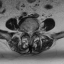CCS_normal: (29, 29, 31, 39)
LFS_stenosis: (33, 28, 35, 34)
LLS_normal: (31, 29, 33, 37)
RFS_stenosis: (25, 28, 27, 34)
RLS_stenosis: (27, 29, 29, 37)
